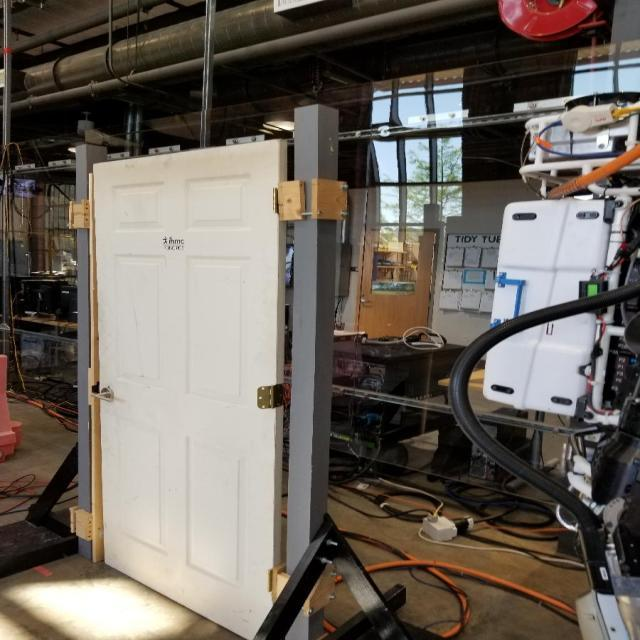door: (87, 136, 290, 640), (88, 384, 120, 404)
